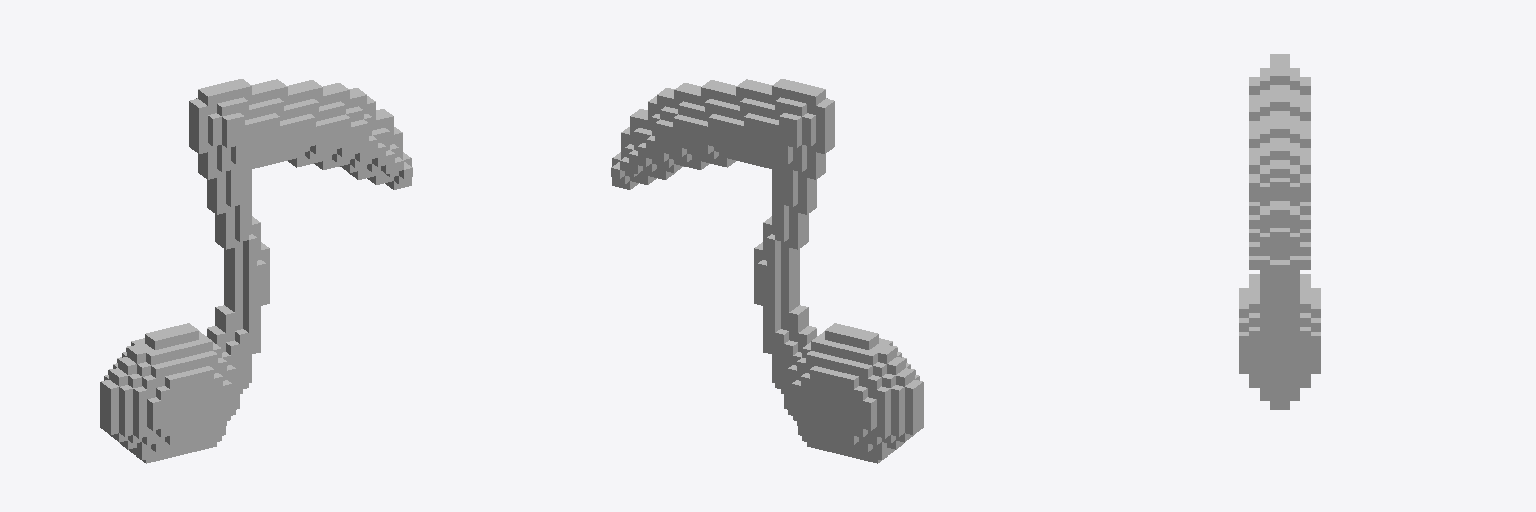
The model's file is note1.vox.obj.
The picture shows the model from 3 angles: view 1: azimuth 30°, elevation 25°; view 2: azimuth 150°, elevation 25°; view 3: azimuth 270°, elevation 25°; orthographic projection.
Visible parts, largest first — view 1: object 1; view 2: object 1; view 3: object 1.
Part boxes in pixels (left/top/right/bottom): object 1: left=100, top=79, right=412, bottom=463; object 1: left=611, top=79, right=923, bottom=463; object 1: left=1239, top=54, right=1320, bottom=409.
Bounding box in the file's own units: 3.4 × 3.8 × 0.8.